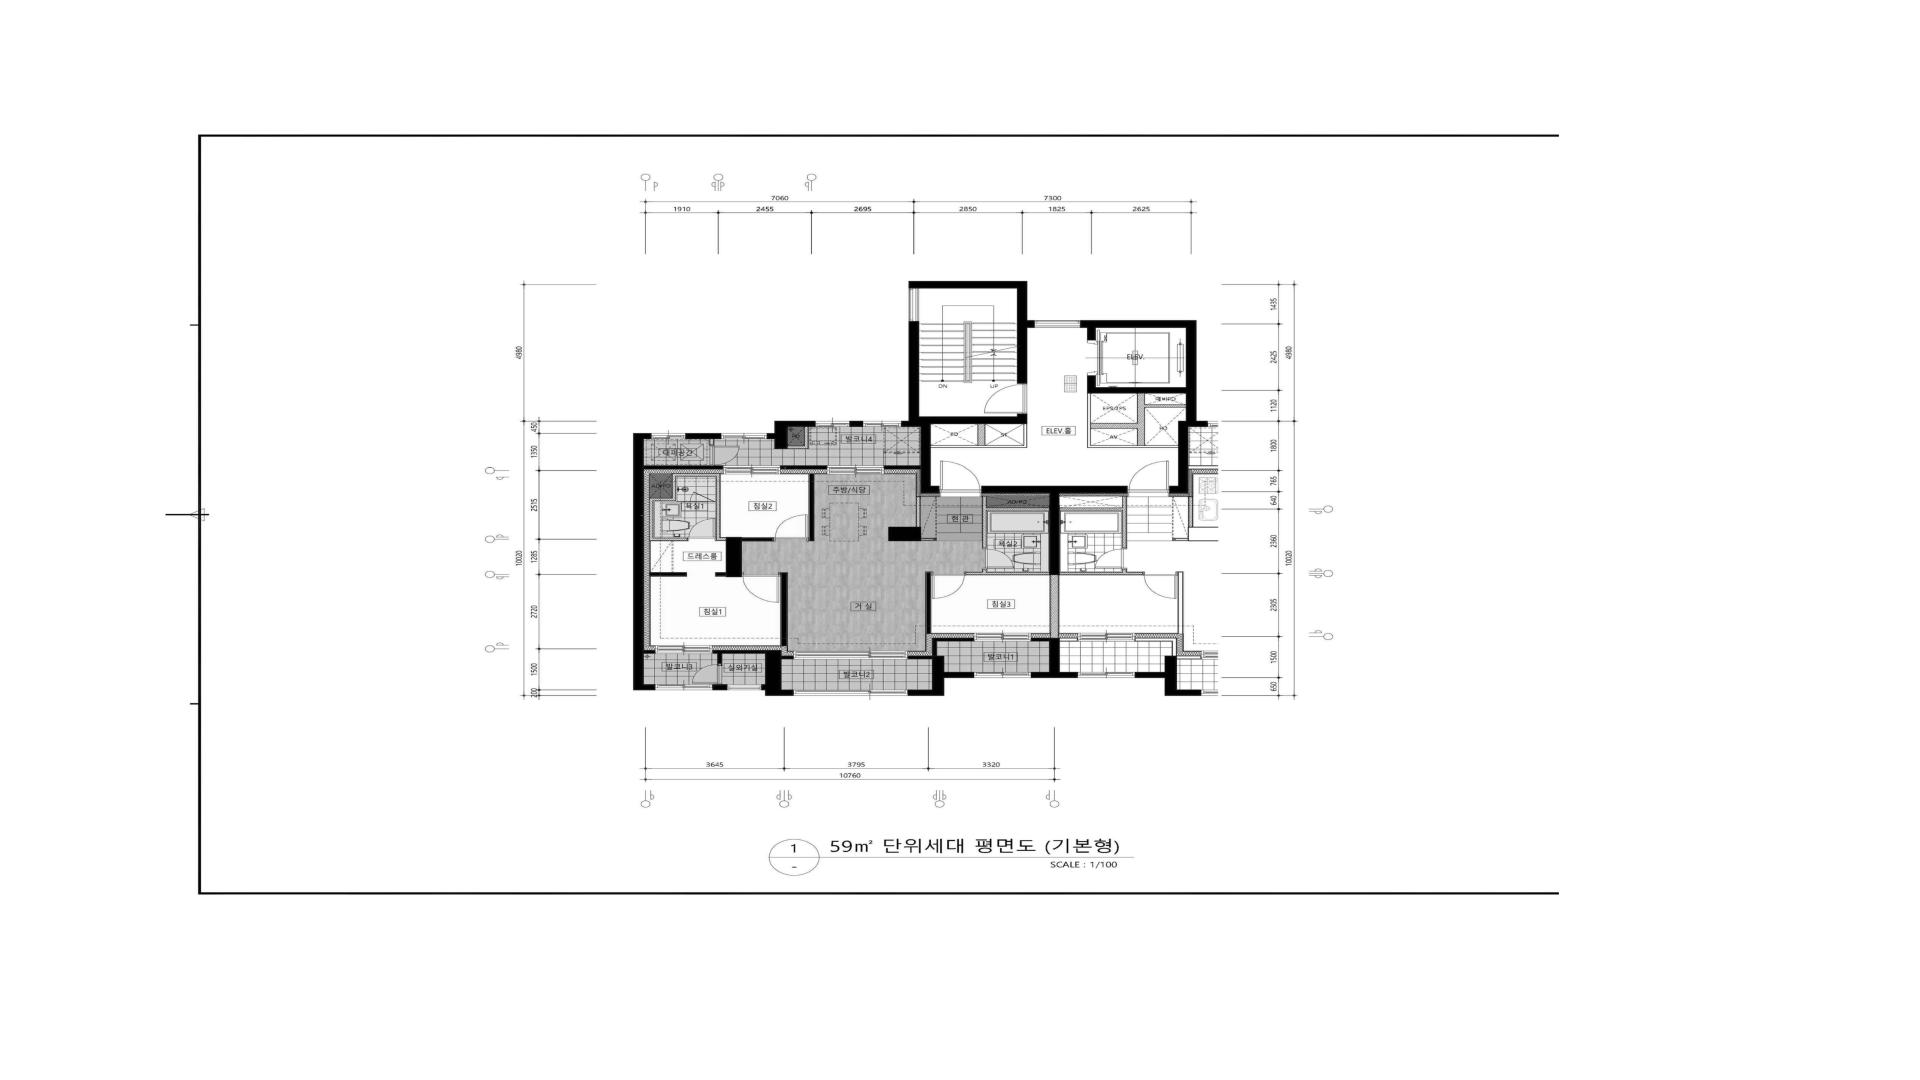door: (939, 460, 981, 493), (984, 384, 1027, 414), (742, 572, 781, 603), (931, 571, 965, 599), (774, 514, 808, 542), (687, 518, 716, 541), (692, 663, 723, 684), (982, 549, 1014, 568), (709, 446, 740, 465), (690, 492, 716, 502)
wall: (633, 439, 644, 691), (1050, 493, 1060, 673), (1170, 427, 1188, 493), (981, 485, 1127, 493), (909, 322, 919, 427), (931, 414, 1027, 425), (1017, 289, 1027, 384), (1185, 328, 1196, 421), (909, 281, 1027, 289), (1080, 320, 1196, 328), (919, 417, 931, 493), (725, 537, 742, 578), (765, 650, 782, 684), (781, 572, 789, 646), (887, 526, 922, 541), (1096, 388, 1185, 393), (808, 473, 815, 541), (924, 571, 931, 634), (1137, 393, 1145, 446), (931, 444, 1027, 448), (716, 473, 721, 541), (644, 465, 723, 469), (932, 671, 944, 696), (774, 427, 787, 450), (774, 421, 815, 427), (761, 684, 782, 696), (1091, 423, 1137, 429), (1031, 673, 1077, 678), (686, 433, 721, 439), (1091, 446, 1178, 448), (967, 572, 1050, 575), (1087, 393, 1091, 448), (712, 650, 765, 654), (982, 496, 986, 549), (1178, 421, 1208, 427), (944, 671, 975, 678), (932, 655, 944, 671), (781, 465, 827, 469), (986, 508, 1050, 510), (977, 425, 985, 446), (742, 537, 774, 542), (907, 690, 932, 696), (1145, 404, 1185, 407), (915, 496, 920, 526), (1087, 376, 1096, 393), (649, 498, 653, 538), (649, 572, 687, 576), (884, 465, 920, 469), (633, 433, 651, 439), (1087, 328, 1096, 340), (676, 473, 716, 476), (649, 538, 687, 541), (907, 655, 932, 659), (673, 473, 676, 498), (938, 638, 975, 641), (849, 421, 864, 427), (932, 638, 938, 655), (1023, 423, 1027, 446), (782, 690, 794, 696), (712, 684, 727, 690), (804, 427, 808, 446), (653, 498, 676, 501), (644, 684, 655, 690), (931, 485, 939, 493), (1027, 320, 1035, 328), (789, 446, 808, 448), (766, 433, 774, 439), (901, 421, 909, 427), (717, 654, 723, 663), (644, 650, 655, 654), (782, 655, 794, 659), (715, 572, 727, 576), (1031, 638, 1048, 641), (922, 538, 936, 541), (709, 439, 713, 446), (676, 501, 690, 502), (982, 568, 986, 572), (721, 537, 725, 541)
window: (794, 650, 907, 659), (794, 690, 907, 696), (827, 465, 884, 475), (724, 465, 781, 475), (655, 645, 712, 654), (975, 633, 1031, 642), (1035, 320, 1080, 328), (909, 289, 919, 322), (655, 684, 712, 690), (975, 673, 1031, 678), (721, 433, 766, 439), (864, 421, 901, 427), (651, 433, 686, 439), (815, 421, 849, 427), (727, 684, 761, 690)
